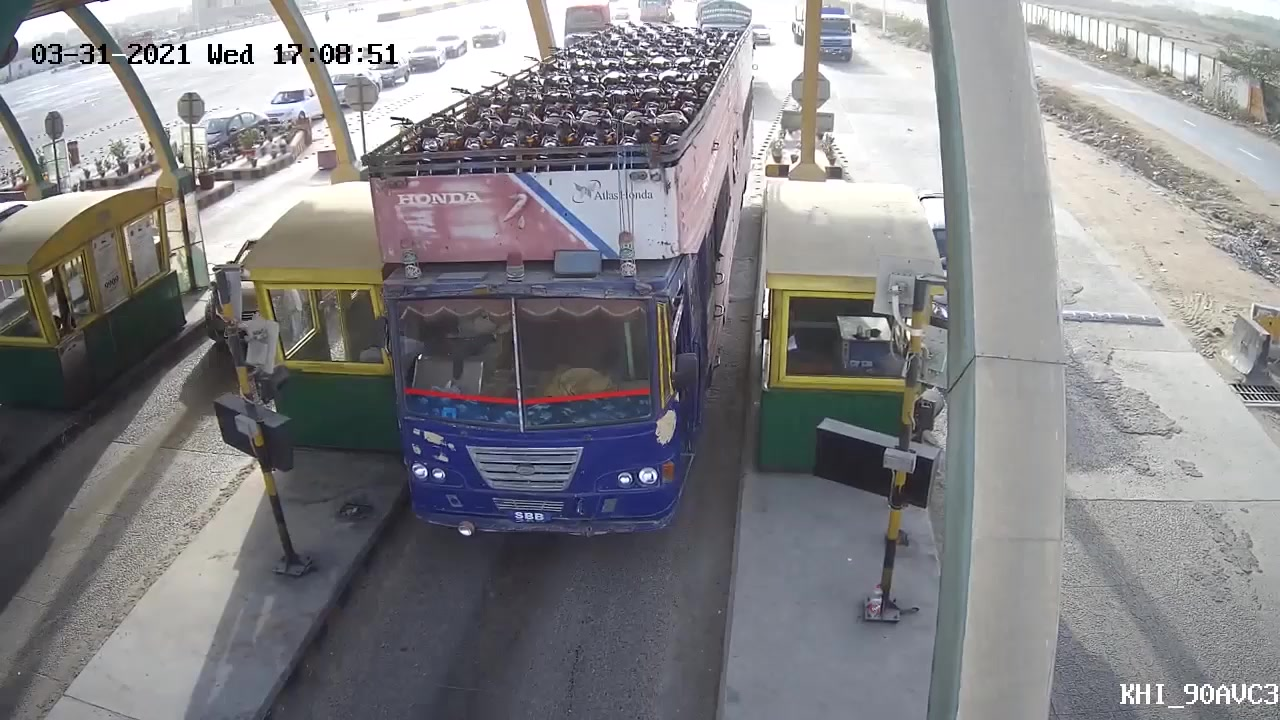F5: (357, 27, 759, 552)
